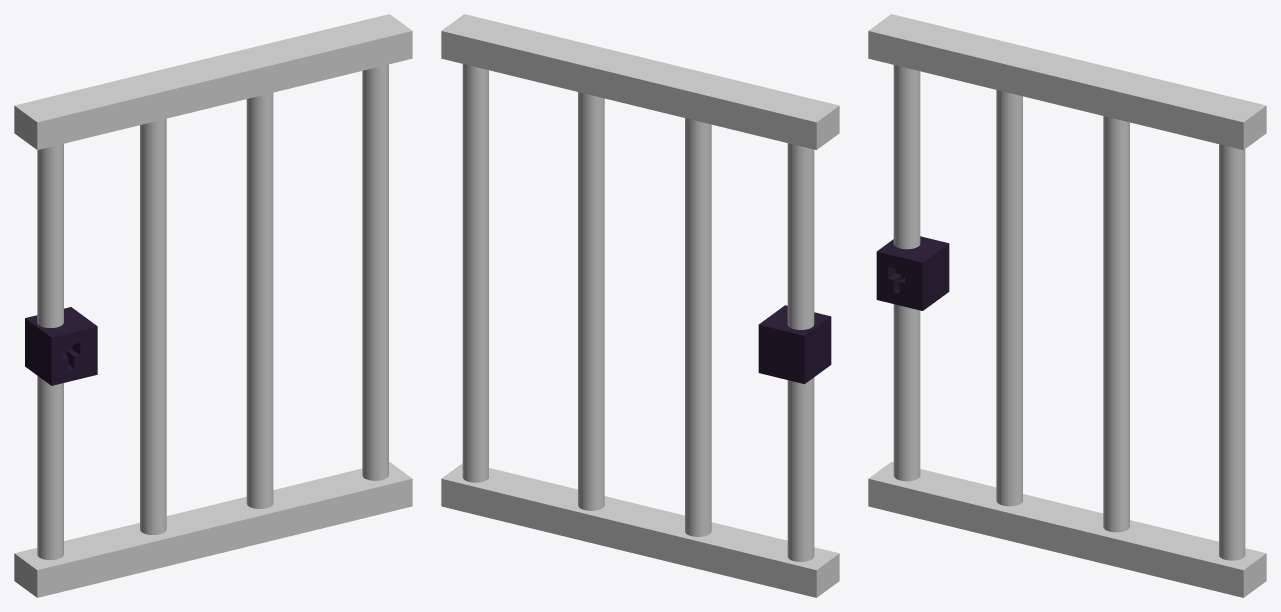
Rendered from cagedoor.fbx.
3 views of the same model, side by side, from view 1: azimuth 30°, elevation 25°; view 2: azimuth 150°, elevation 25°; view 3: azimuth 330°, elevation 25° (orthographic).
Parts seen in each view (by area): view 1: Plane, Plane.001, Cylinder.002, Cylinder.003, Cylinder.001, Cylinder, Cube; view 2: Plane, Plane.001, Cylinder.003, Cylinder.002, Cylinder.001, Cylinder, Cube; view 3: Plane, Plane.001, Cylinder.001, Cylinder.003, Cylinder.002, Cylinder, Cube.
Part boxes in pixels (x1,y1,x2,y2): Plane: [14, 14, 412, 149]; Plane.001: [14, 462, 412, 597]; Cylinder.002: [246, 93, 273, 508]; Cylinder.003: [362, 64, 388, 480]; Cylinder.001: [140, 118, 166, 534]; Cylinder: [37, 144, 63, 559]; Cube: [25, 307, 97, 385]; Plane: [441, 14, 839, 149]; Plane.001: [441, 463, 839, 597]; Cylinder.003: [462, 64, 488, 482]; Cylinder.002: [578, 92, 604, 510]; Cylinder.001: [685, 118, 711, 536]; Cylinder: [787, 143, 814, 561]; Cube: [758, 305, 831, 384]; Plane: [868, 14, 1266, 149]; Plane.001: [868, 462, 1266, 597]; Cylinder.001: [996, 90, 1022, 506]; Cylinder.003: [1219, 144, 1245, 560]; Cylinder.002: [1103, 116, 1129, 532]; Cylinder: [893, 65, 920, 481]; Cube: [876, 236, 949, 310].
Bounding box in the file's own units: 163 × 197 × 20.
